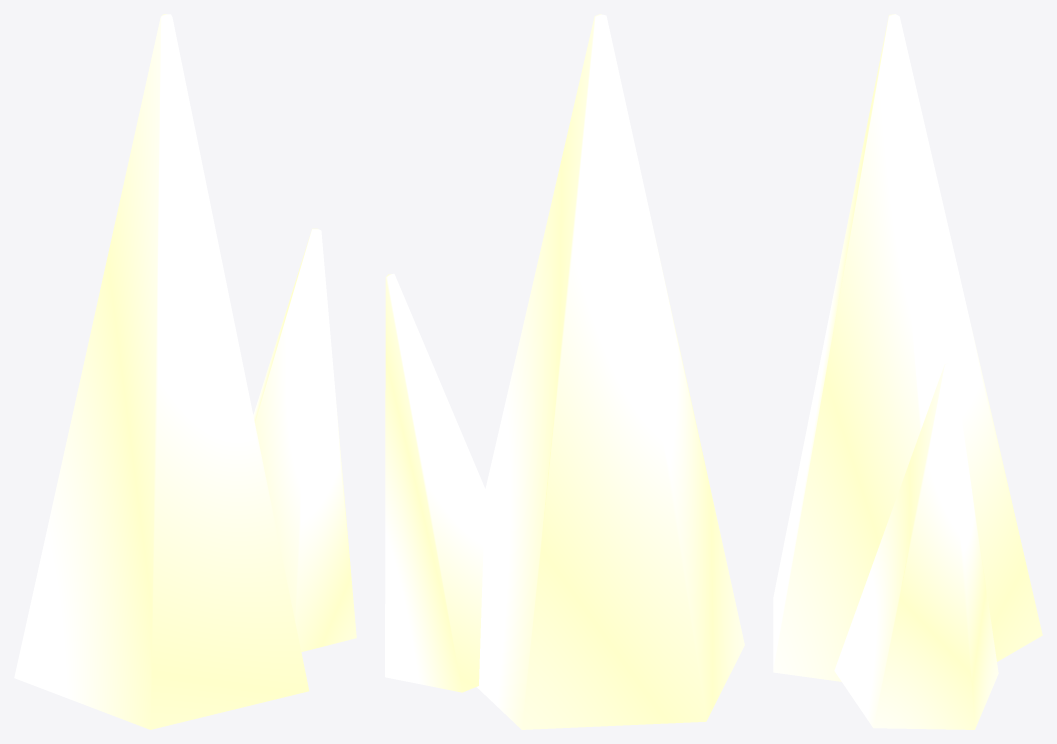
File: crystal.glb
3 renders of one model, left to right at view 1: azimuth 30°, elevation 25°; view 2: azimuth 150°, elevation 25°; view 3: azimuth 270°, elevation 25°, orthographic. The views are drawn at different scales.
Visible parts, largest first — view 1: GlowShard, GlowShardB; view 2: GlowShard, GlowShardB; view 3: GlowShard, GlowShardB.
Boxes of the visible parts, x1,y1,x2,y2 form: GlowShard: [14, 14, 309, 729]; GlowShardB: [253, 228, 356, 651]; GlowShard: [477, 14, 744, 729]; GlowShardB: [385, 273, 485, 692]; GlowShard: [773, 14, 1042, 681]; GlowShardB: [834, 363, 998, 729].
Bounding box in the file's own units: 0.2761 × 0.5632 × 0.2171.
